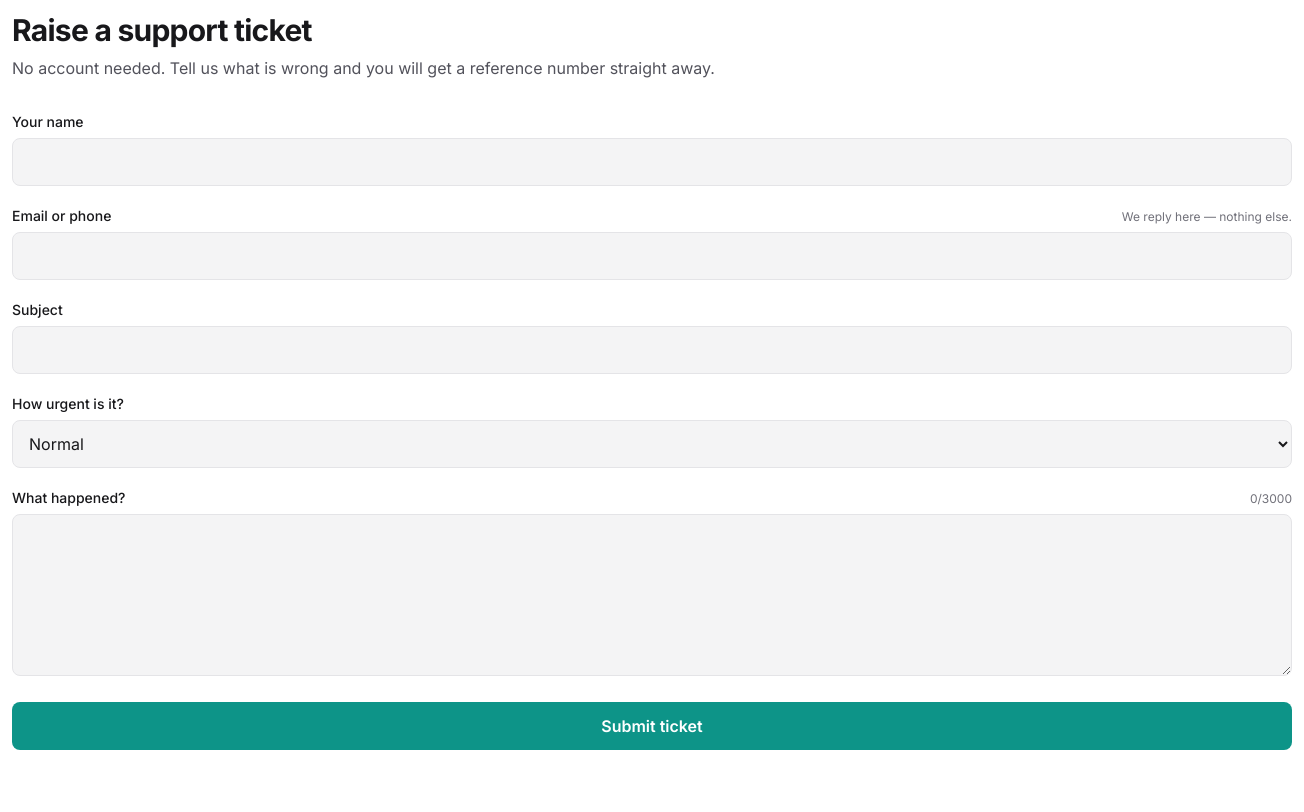
Scenario: SupportForm › files the ticket on the widget named in ?w= and shows the reference
In the field labelled "Your name": point(652, 162) [12, 138, 1292, 186], type "Asha"
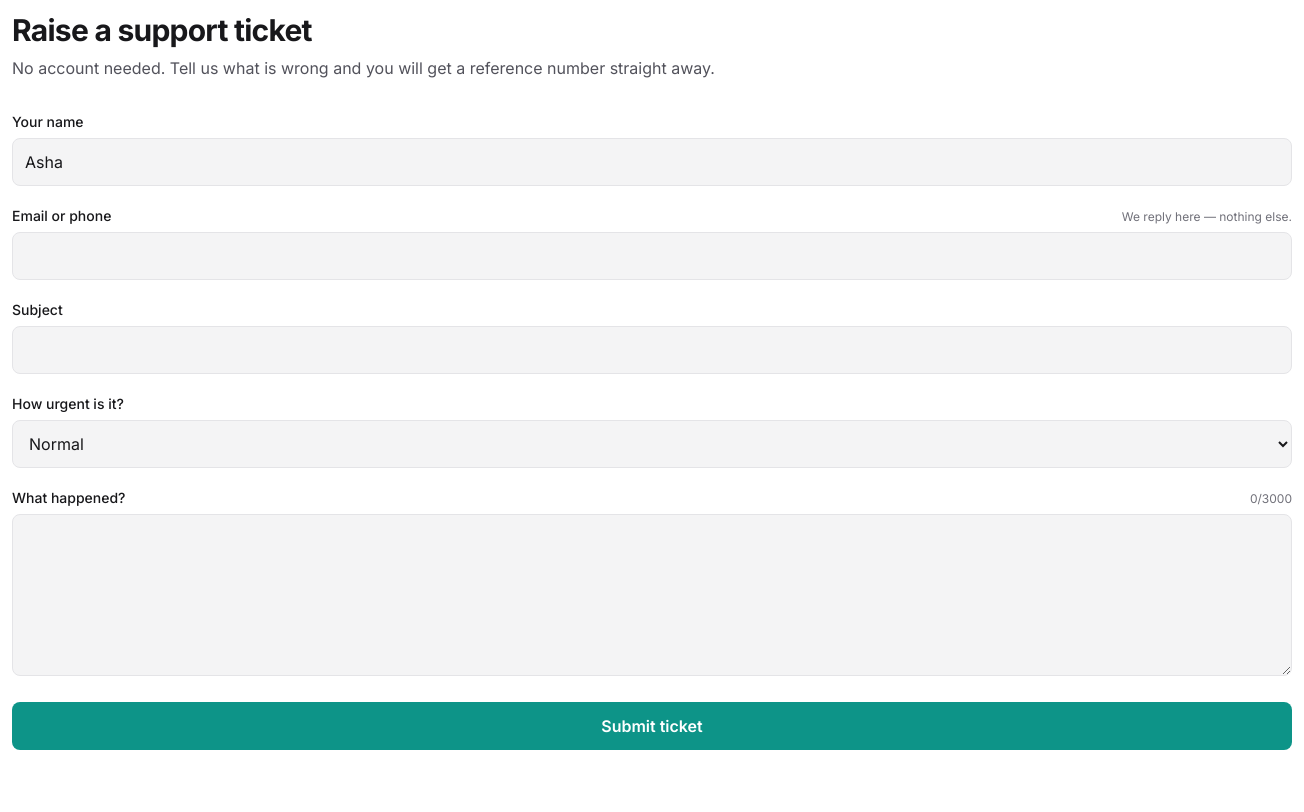
In the field labelled "Email or phone": point(652, 256) [12, 232, 1292, 280], type "asha@example.com"
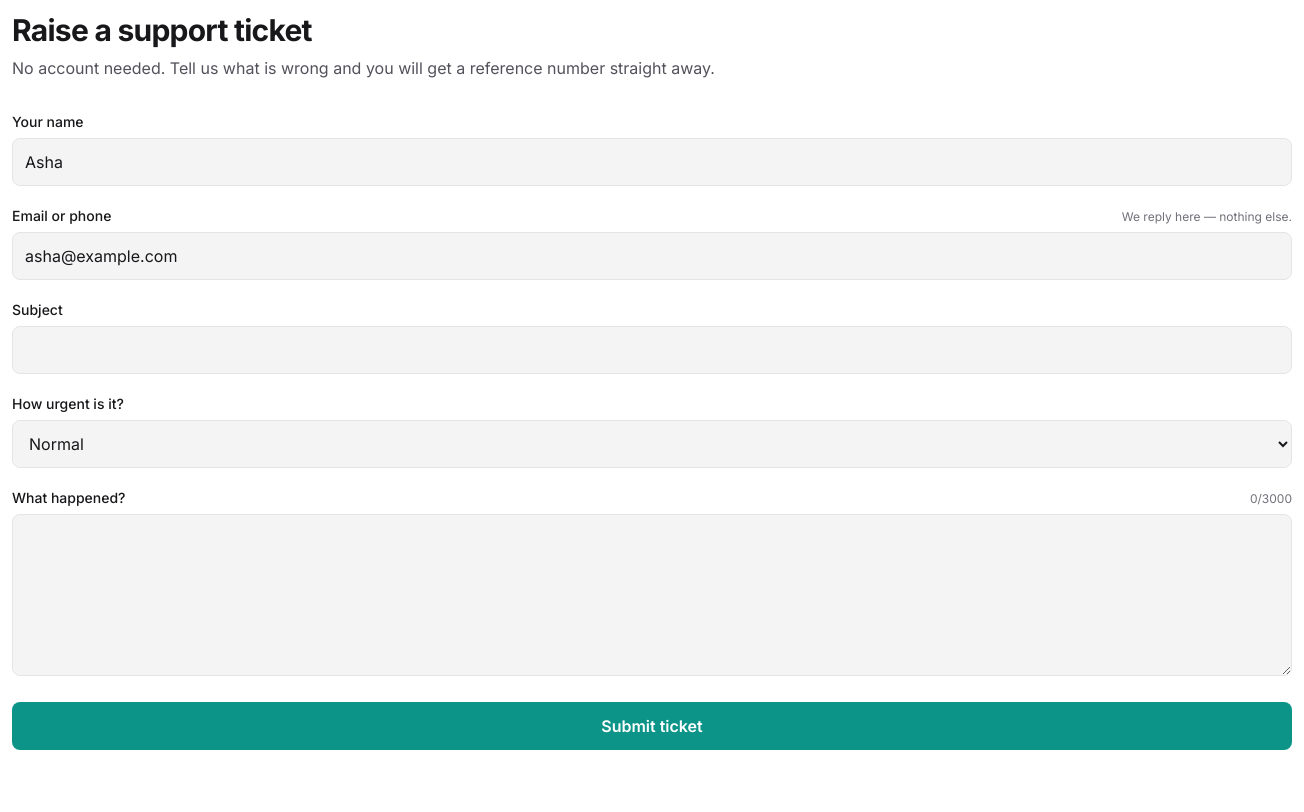
In the field labelled "Subject": point(652, 350) [12, 326, 1292, 374], type "Refund"
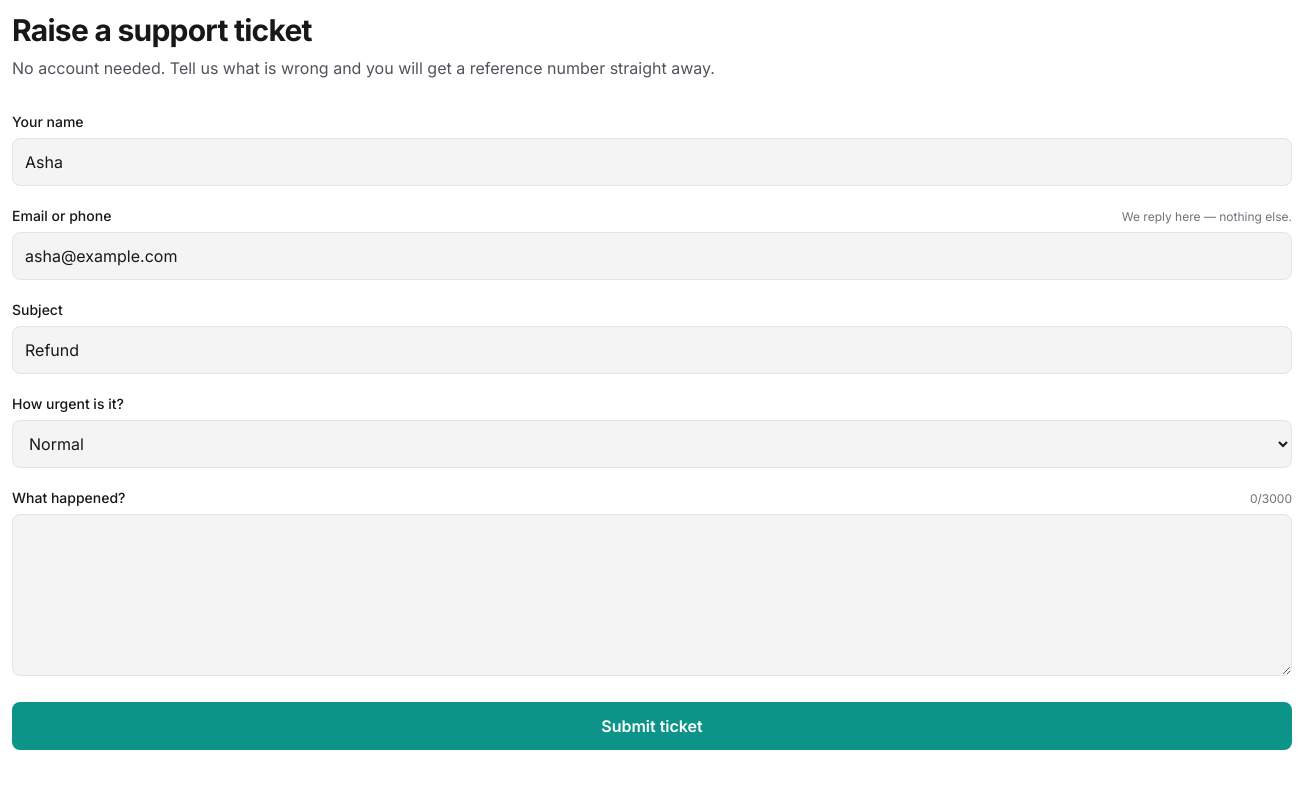
In the text box labelled "What happened?": point(652, 595) [12, 514, 1292, 676], type "My refund has not arrived yet."
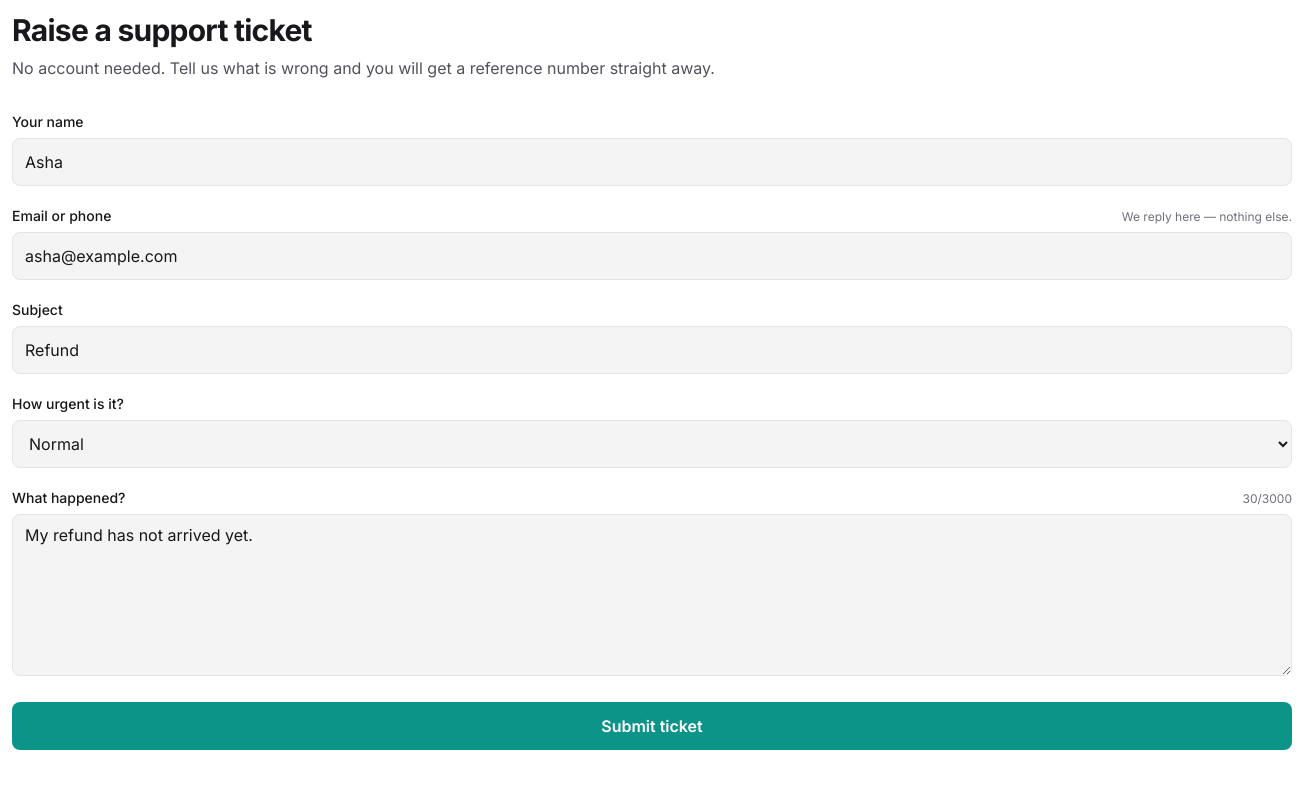
Click the button "Submit ticket": point(652, 726) [12, 702, 1292, 750]
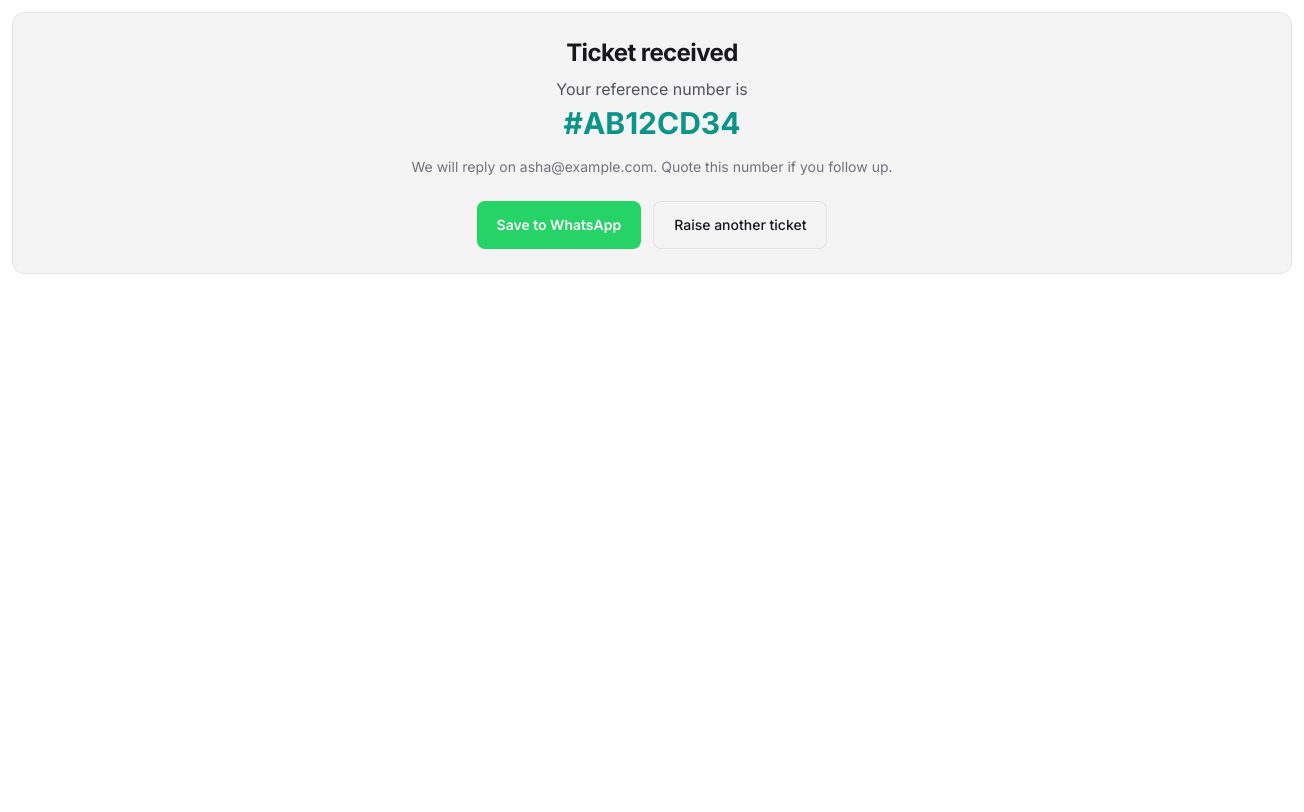
Result: the text "#AB12CD34" is shown at [564, 105, 741, 141]
